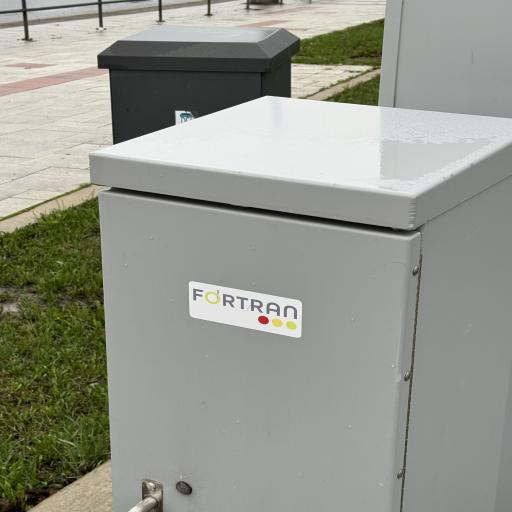Electrical Box: (94, 22, 512, 512)
